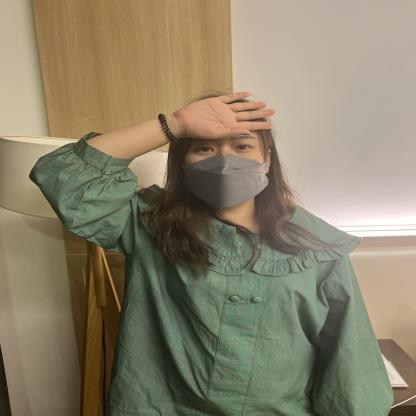Sick: (5, 52, 275, 188)
